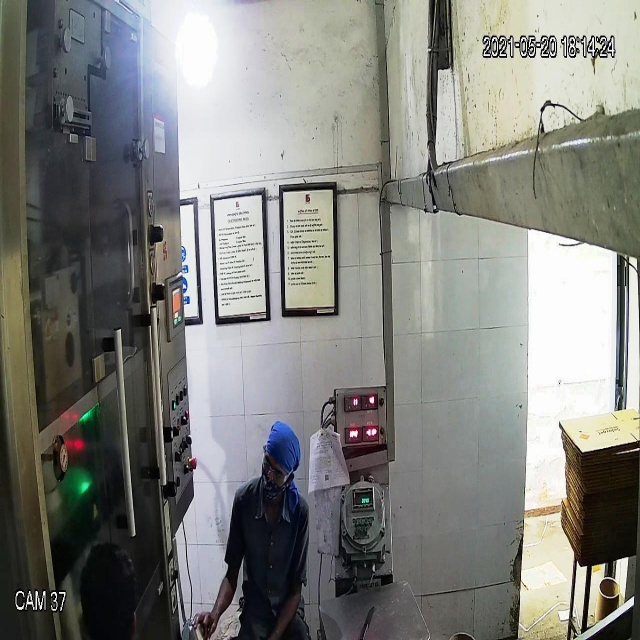Gafas: (256, 456, 296, 485)
